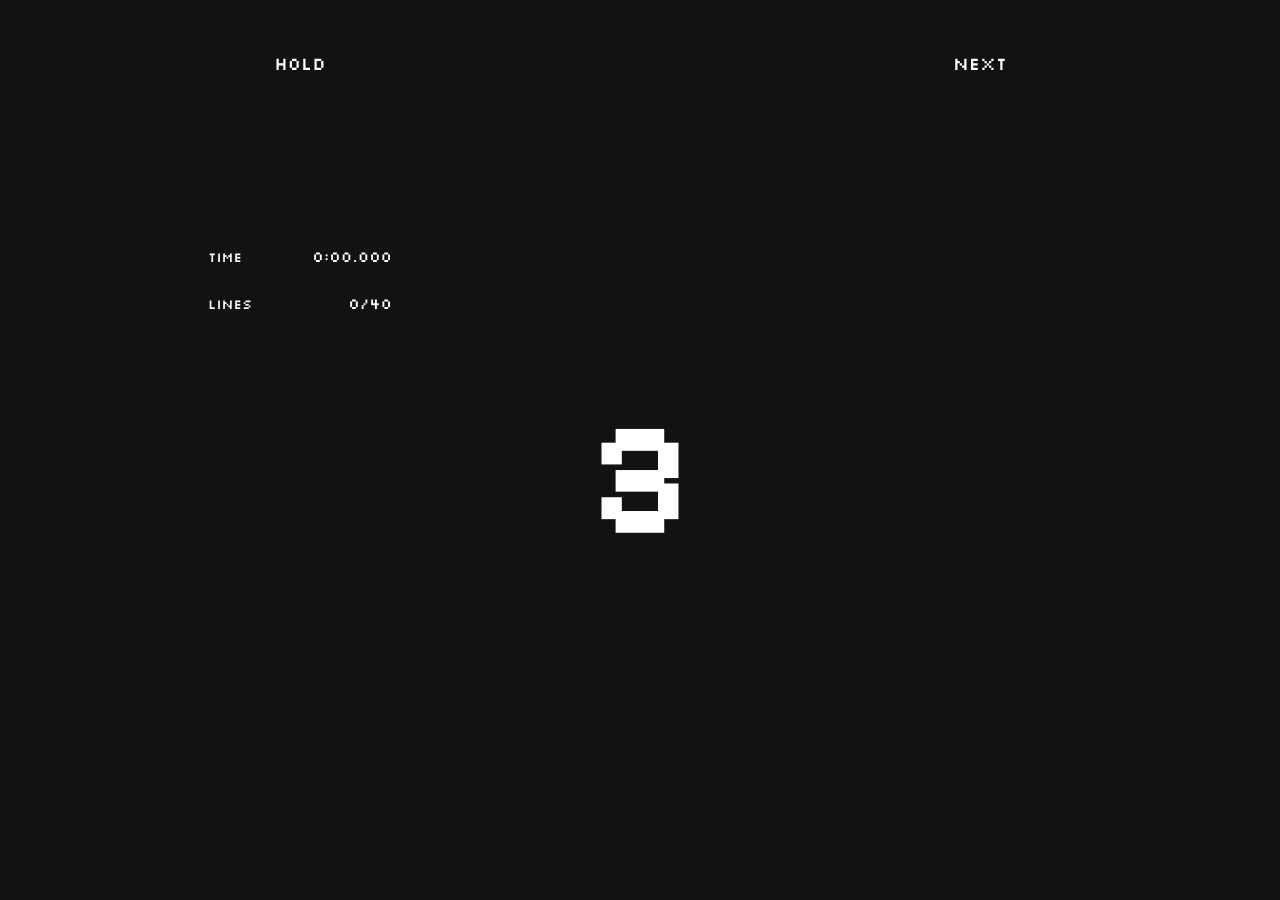
it: the in-game menu › the settings’ Back leads back to the menu too
Press Escape
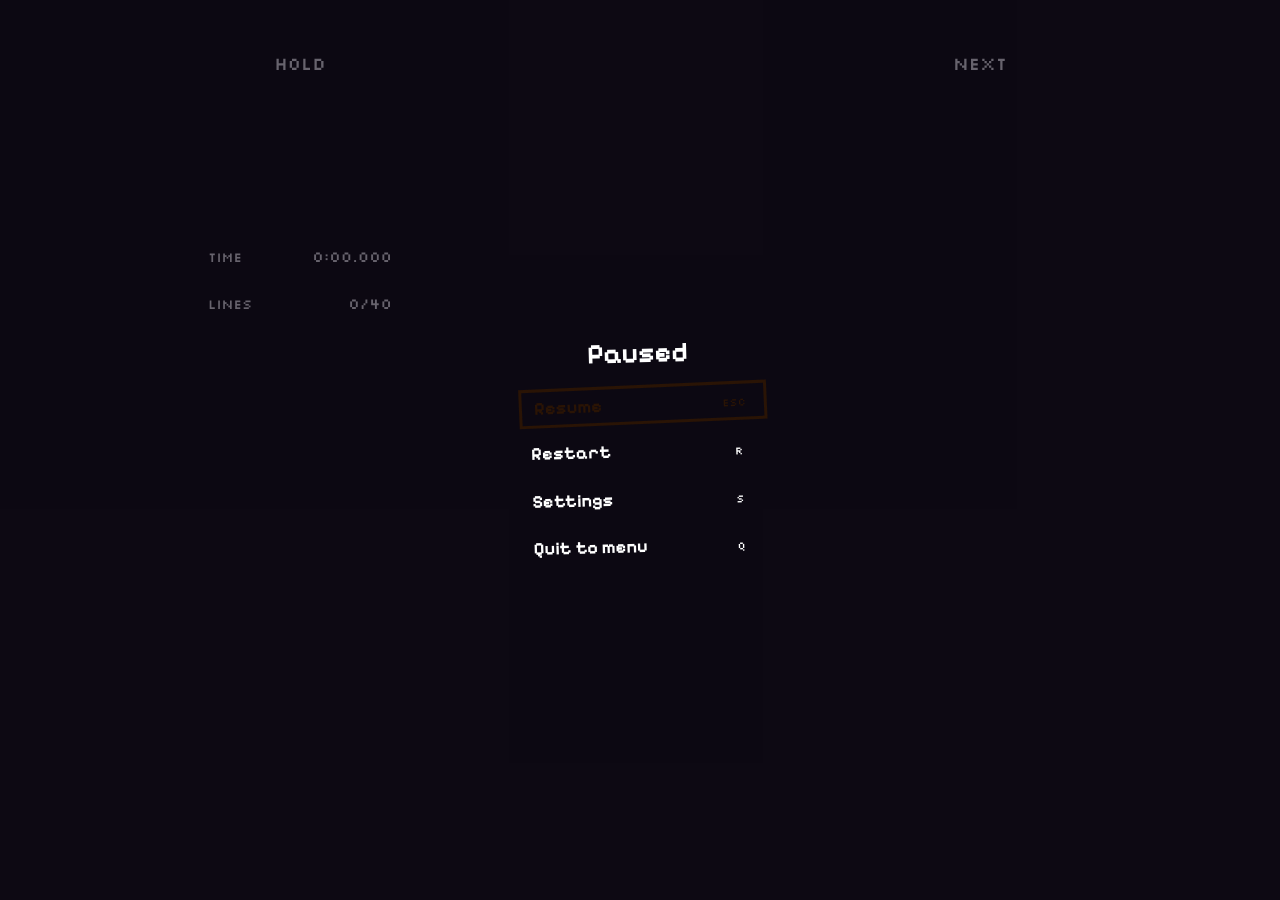
Type keys "s"
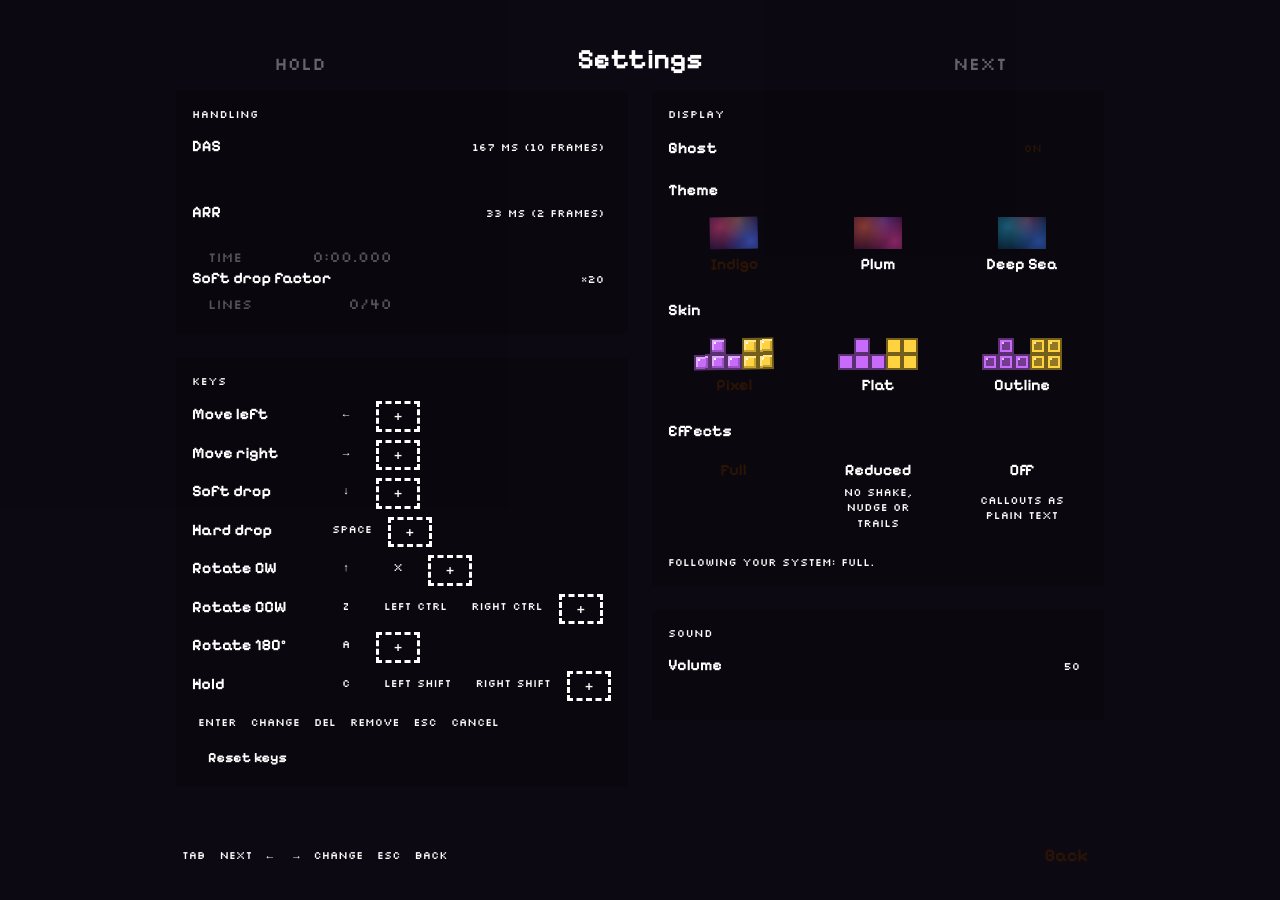
Click the button "Back" at (1066, 855), box [1029,839,1104,872]
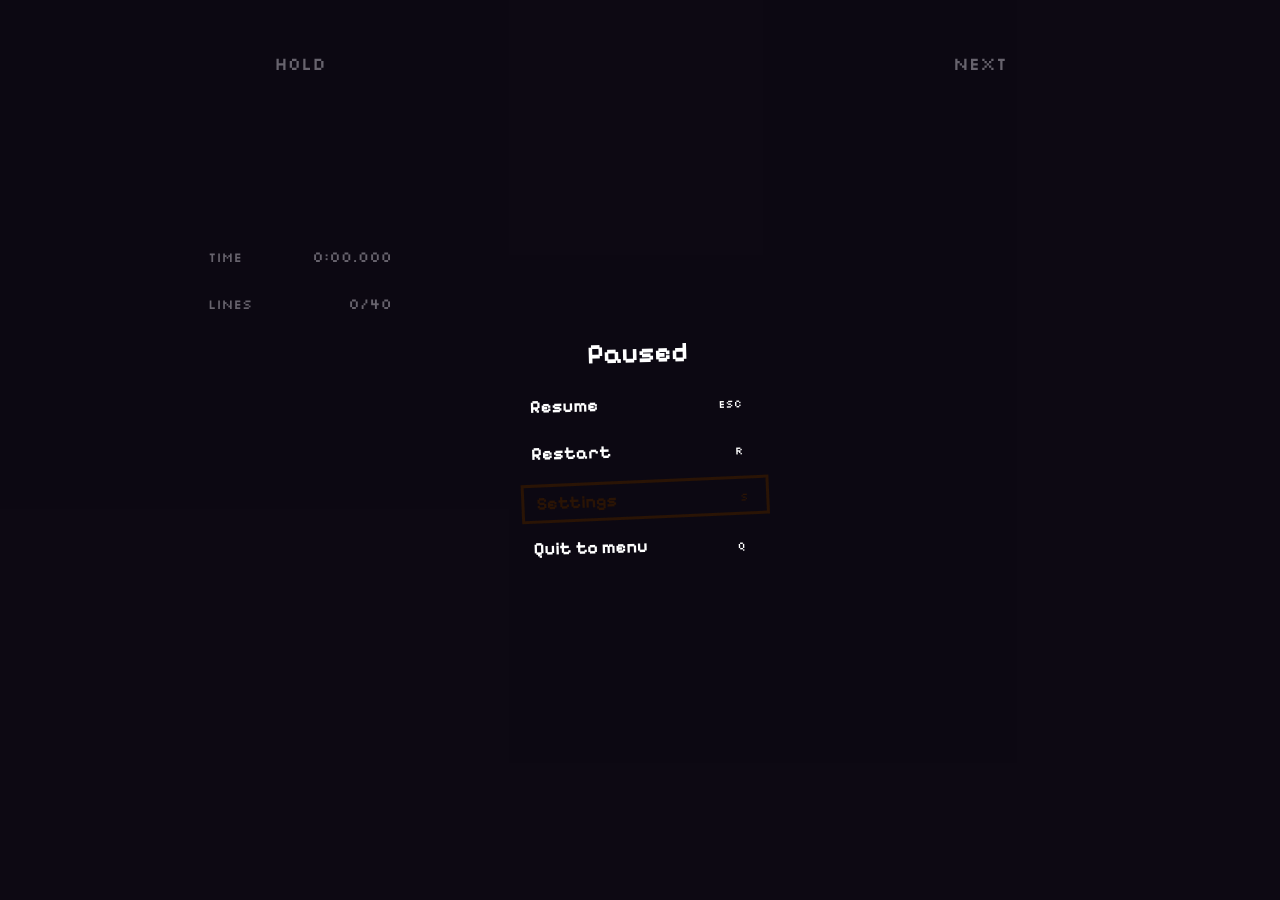
Result: the dialog "Paused" is shown at [496,306,784,594]
